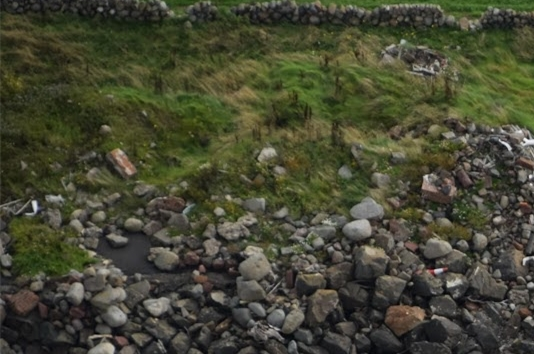chaos: (416, 119, 534, 200), (380, 37, 454, 79)
white_in_green: (419, 254, 458, 288), (16, 188, 51, 224)
